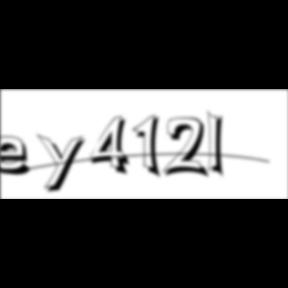1: (132, 114, 168, 182)
2: (163, 117, 213, 181)
4: (90, 115, 136, 179)
e: (0, 135, 38, 178)
l: (207, 108, 230, 182)
y: (37, 132, 91, 196)
